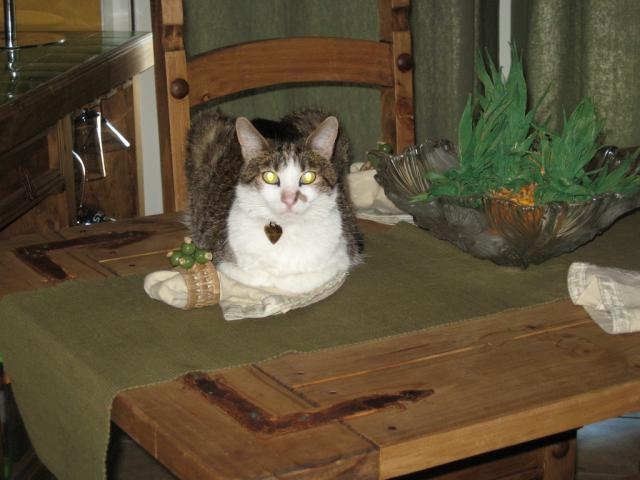Cat: (184, 103, 370, 291)
